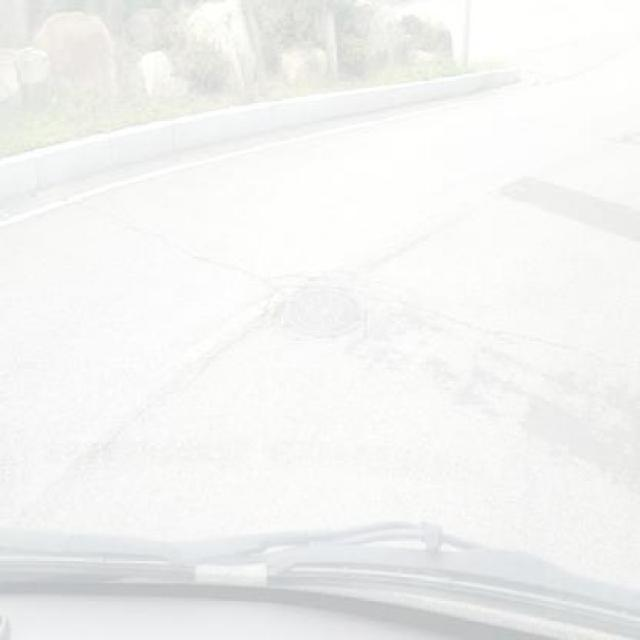Manhole: (273, 286, 367, 340)
